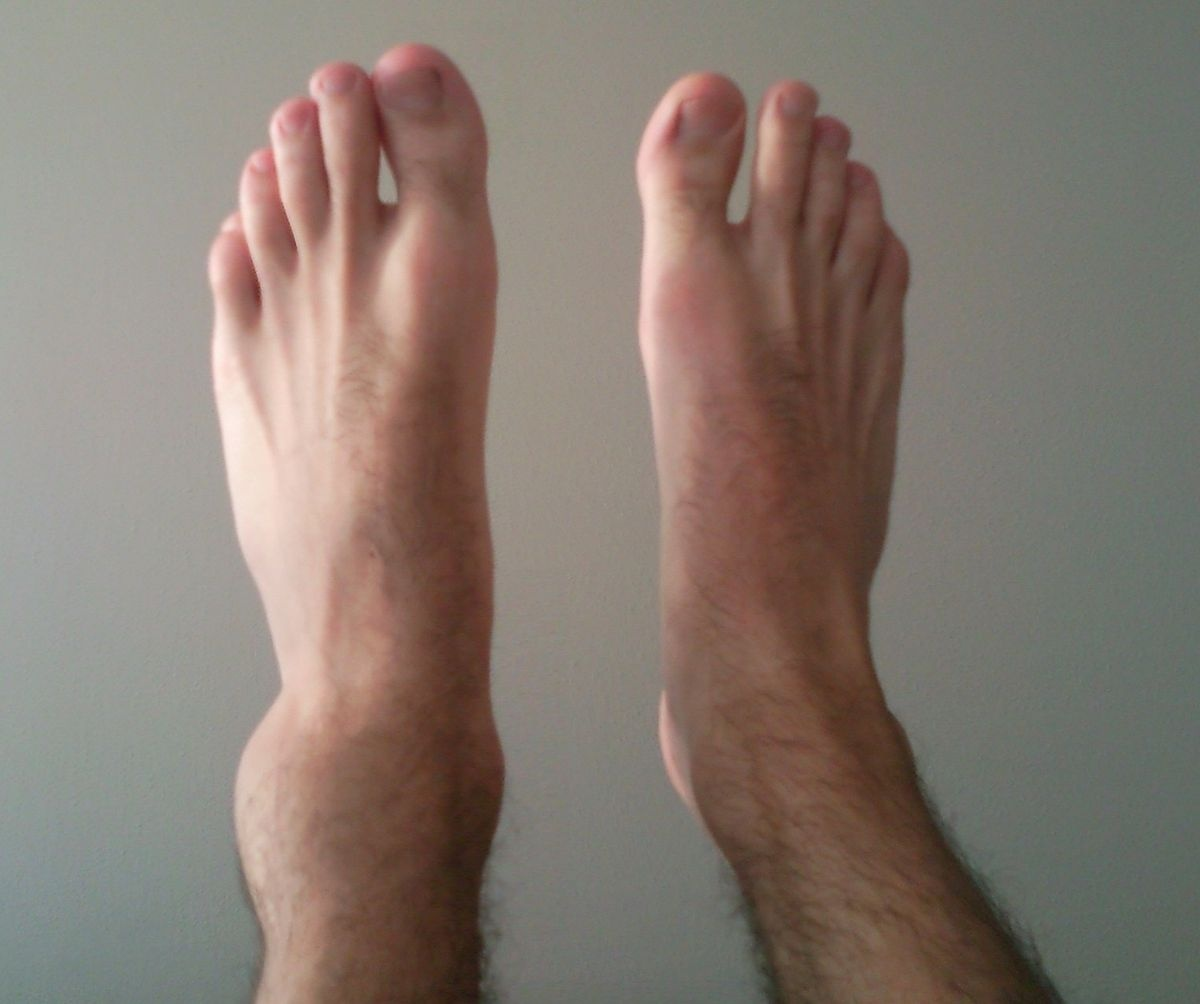feet: (170, 35, 515, 924), (604, 41, 914, 869)
